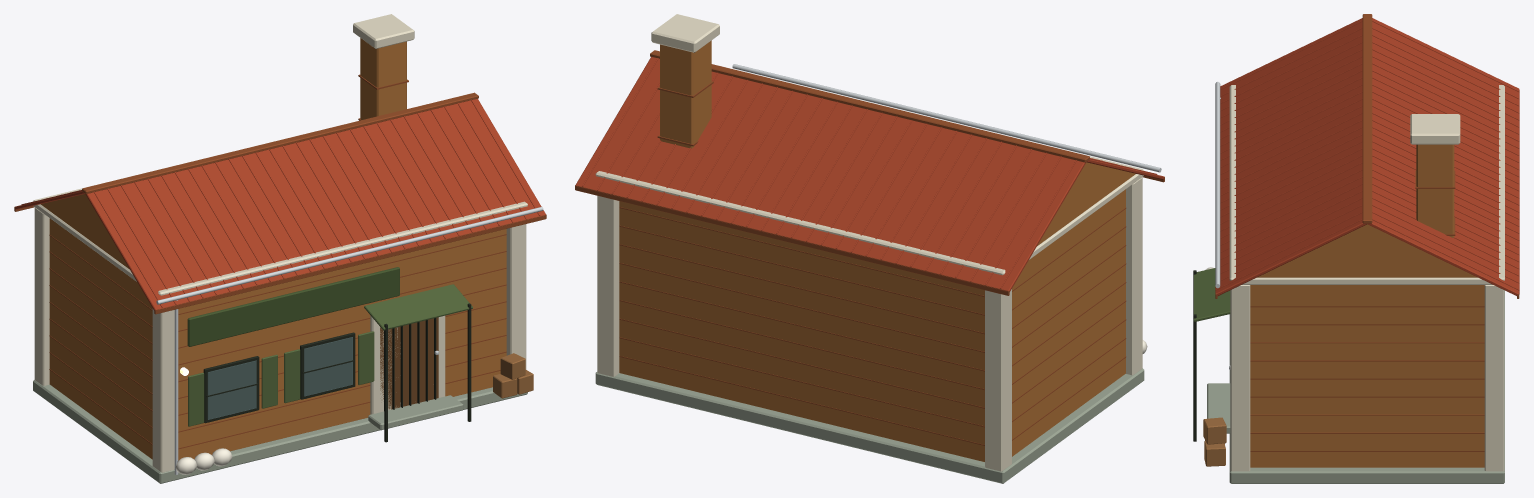
The model's file is roastery.glb.
3 renders of one model, left to right at view 1: azimuth 30°, elevation 25°; view 2: azimuth 150°, elevation 25°; view 3: azimuth 270°, elevation 25°, orthographic. The views are drawn at different scales.
Parts seen in each view (by area): view 1: Roastery; view 2: Roastery; view 3: Roastery.
Boxes of the visible parts, x1,y1,x2,y2 form: Roastery: [14, 14, 546, 483]; Roastery: [575, 14, 1164, 483]; Roastery: [1193, 14, 1519, 483].
Bounding box in the file's own units: 12.26 × 9.25 × 8.17.
